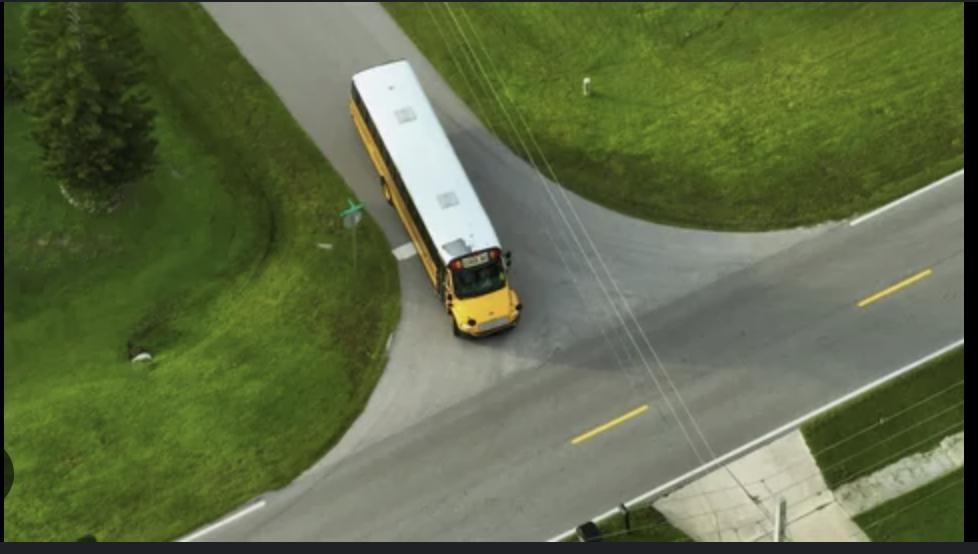Bus: (336, 51, 541, 346)
